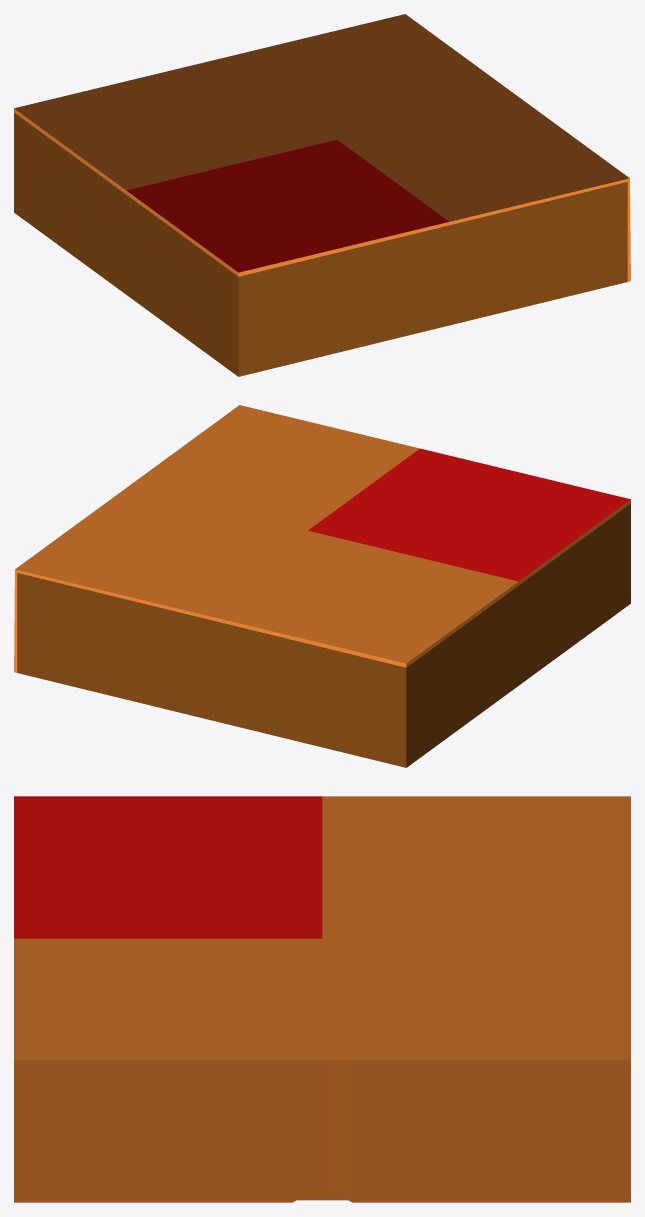
File: Pizza Box 1.fbx
3 views of the same model, one above another, from view 1: azimuth 30°, elevation 25°; view 2: azimuth 150°, elevation 25°; view 3: azimuth 270°, elevation 25° (orthographic). The views are drawn at different scales.
Parts seen in each view (by area): view 1: Node 0; view 2: Node 0; view 3: Node 0.
Boxes of the visible parts, x1=… form: Node 0: x1=14, y1=14, x2=630, y2=376; Node 0: x1=14, y1=405, x2=630, y2=767; Node 0: x1=14, y1=796, x2=630, y2=1202.
Size of the model in its own units: 0.1977 by 0.0507 by 0.1995.
